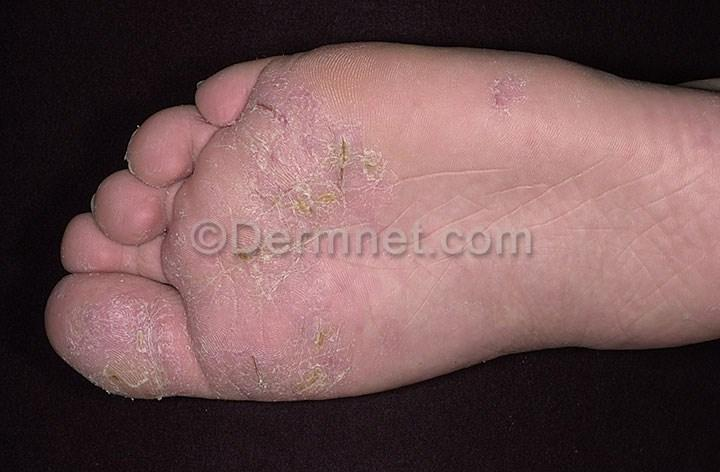Eczema: (230, 80, 420, 219), (49, 303, 209, 404), (281, 313, 373, 397), (230, 255, 319, 300), (480, 69, 546, 124)
